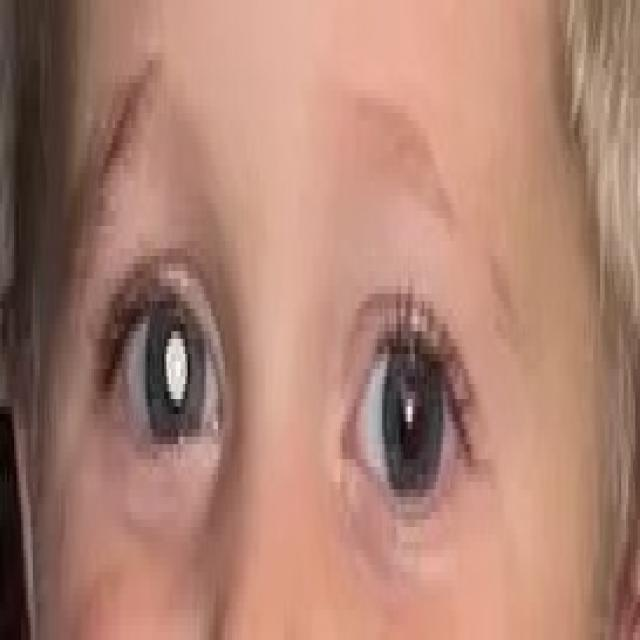reflexo-alterado: (340, 278, 476, 559), (92, 288, 233, 472)
